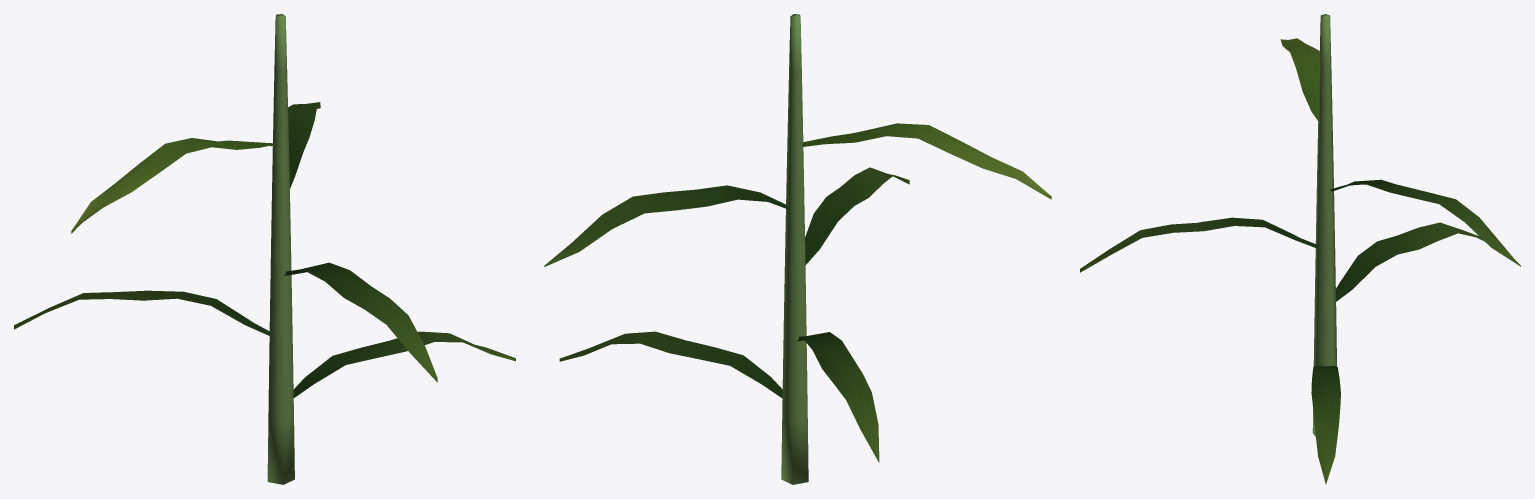
Rendered from lavender-04-lod.glb.
3 views of the same model, side by side, from view 1: azimuth 30°, elevation 25°; view 2: azimuth 150°, elevation 25°; view 3: azimuth 270°, elevation 25° (orthographic). The views are drawn at different scales.
Parts seen in each view (by area): view 1: lavender_stage_04_stem_fibres.007, lavender_stage_04_leaf_veins.007, lavender_stage_04_young_leaf.007; view 2: lavender_stage_04_leaf_veins.007, lavender_stage_04_stem_fibres.007, lavender_stage_04_young_leaf.007; view 3: lavender_stage_04_leaf_veins.007, lavender_stage_04_stem_fibres.007, lavender_stage_04_young_leaf.007.
Part boxes in pixels (bbox=[...]): lavender_stage_04_stem_fibres.007: bbox=[267, 14, 294, 484]; lavender_stage_04_leaf_veins.007: bbox=[14, 102, 515, 397]; lavender_stage_04_young_leaf.007: bbox=[71, 138, 275, 233]; lavender_stage_04_leaf_veins.007: bbox=[544, 167, 909, 462]; lavender_stage_04_stem_fibres.007: bbox=[781, 14, 808, 484]; lavender_stage_04_young_leaf.007: bbox=[802, 123, 1051, 199]; lavender_stage_04_leaf_veins.007: bbox=[1080, 179, 1520, 484]; lavender_stage_04_stem_fibres.007: bbox=[1312, 14, 1336, 436]; lavender_stage_04_young_leaf.007: bbox=[1280, 38, 1319, 120].
Bounding box in the file's own units: 0.1469 × 0.1388 × 0.1324.
Materials: 3 (2 with a texture image).
